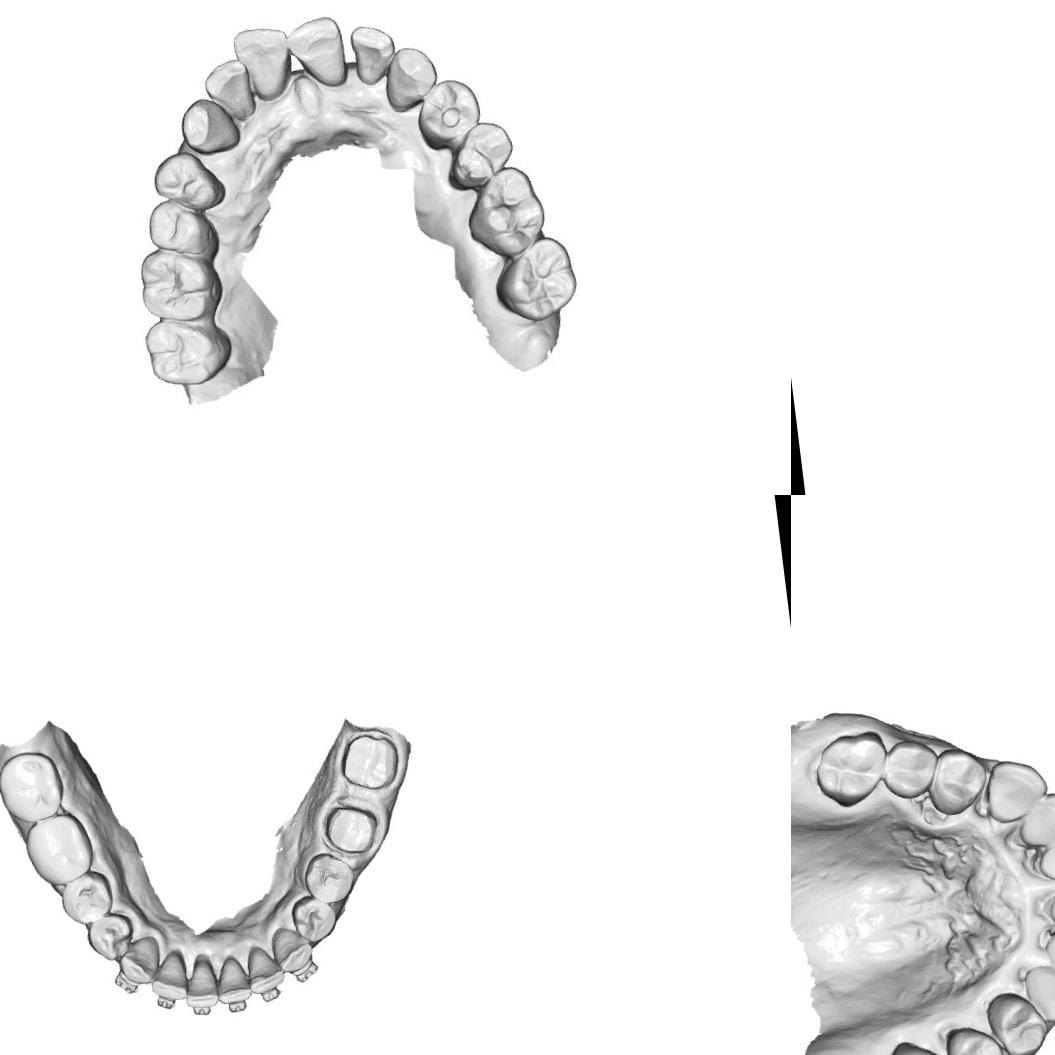canine: (980, 753, 1052, 825), (379, 39, 442, 113), (176, 94, 242, 158), (1018, 957, 1055, 1028), (115, 934, 162, 988), (270, 922, 315, 974)
crown: (333, 727, 404, 798), (318, 796, 384, 862)
incisor: (229, 18, 299, 106), (280, 11, 352, 95), (199, 56, 258, 126), (347, 20, 400, 87), (1014, 786, 1055, 851), (146, 949, 189, 1003), (244, 942, 286, 995), (181, 958, 220, 1010), (213, 954, 252, 1006), (1031, 826, 1055, 890)
molar: (488, 232, 582, 327), (460, 162, 548, 260), (136, 244, 225, 328), (140, 312, 228, 395), (810, 728, 892, 812), (21, 809, 97, 889), (0, 748, 67, 827), (878, 1034, 963, 1055)
premolar: (440, 116, 520, 192), (412, 71, 485, 151), (145, 147, 228, 217), (923, 743, 994, 819), (143, 194, 222, 262), (982, 987, 1050, 1055), (879, 732, 943, 803), (58, 868, 115, 927), (300, 848, 357, 906), (84, 910, 136, 963), (289, 892, 340, 945), (940, 1018, 1007, 1055)
